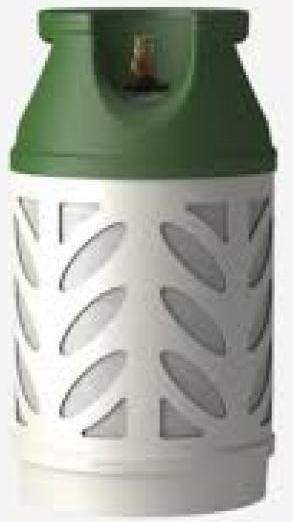cylinder: (1, 1, 293, 522)
